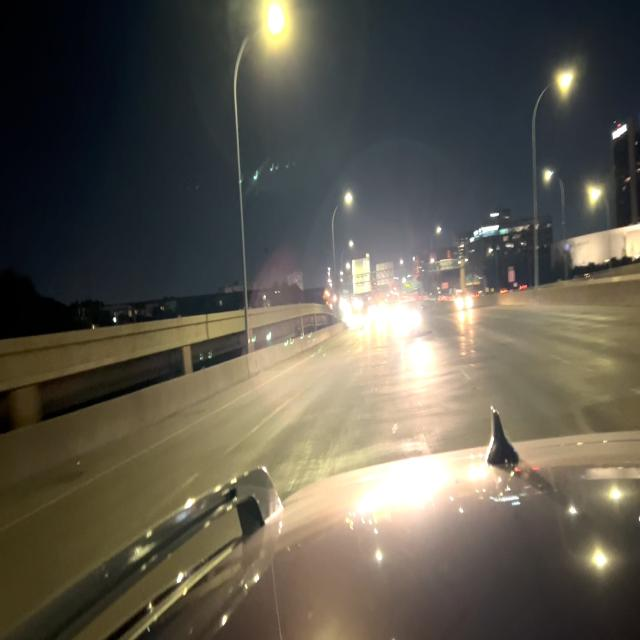back-of-sign: (353, 253, 372, 297), (375, 260, 395, 287)
